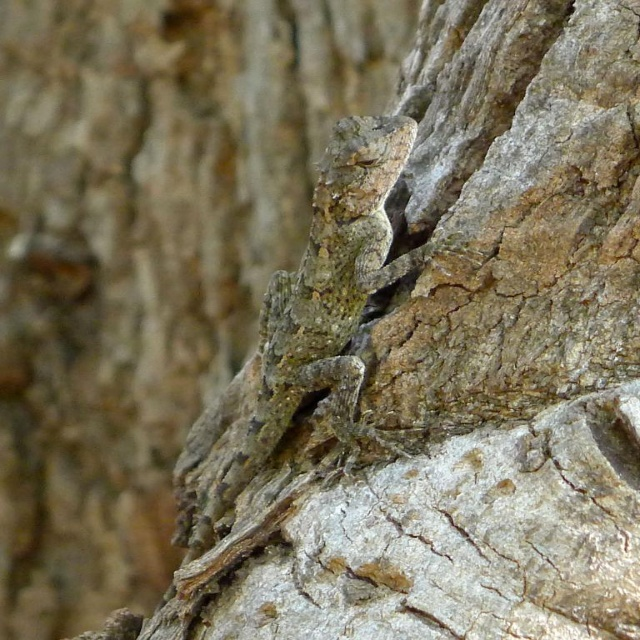Lizard: (162, 79, 515, 600)
